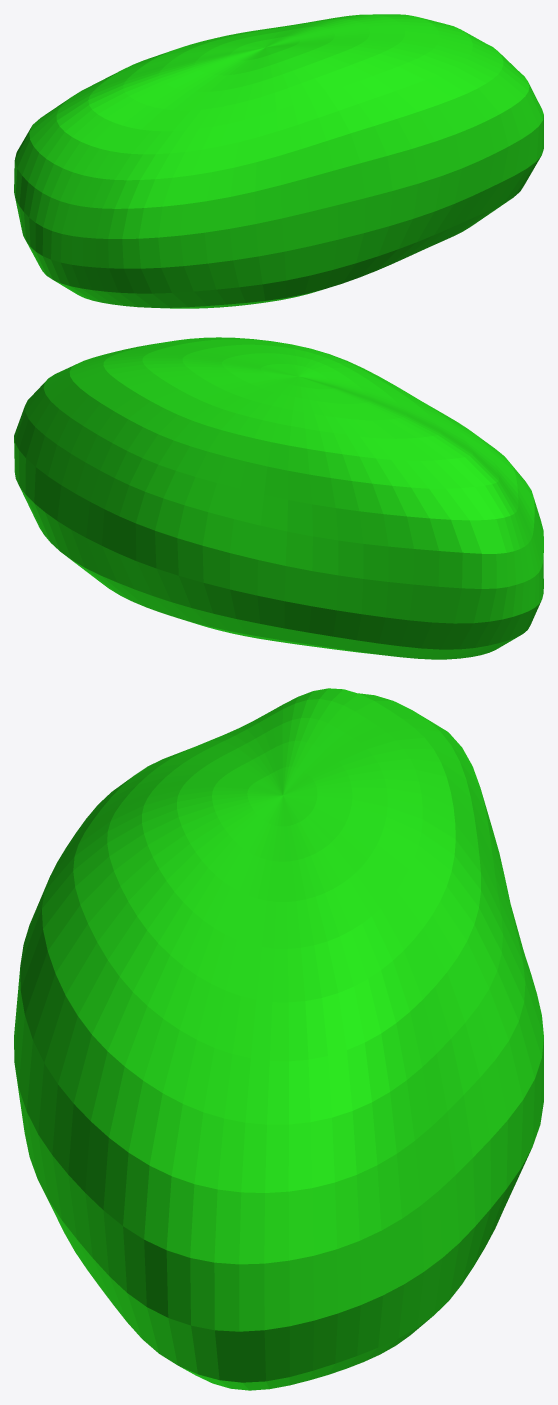
File: slime.fbx
3 renders of one model, top to bottom at view 1: azimuth 30°, elevation 25°; view 2: azimuth 150°, elevation 25°; view 3: azimuth 270°, elevation 25°, orthographic. The views are drawn at different scales.
Visible parts, largest first — view 1: Sphere; view 2: Sphere; view 3: Sphere.
Part boxes in pixels (box(x1,y1,x2,y2)): Sphere: box(14, 14, 543, 308); Sphere: box(14, 337, 543, 659); Sphere: box(14, 688, 543, 1390).
Size of the model in its own units: 415 by 183 by 200.
